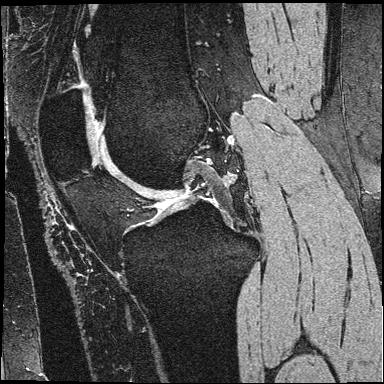SagKneeJointArea: (38, 88, 261, 289)
